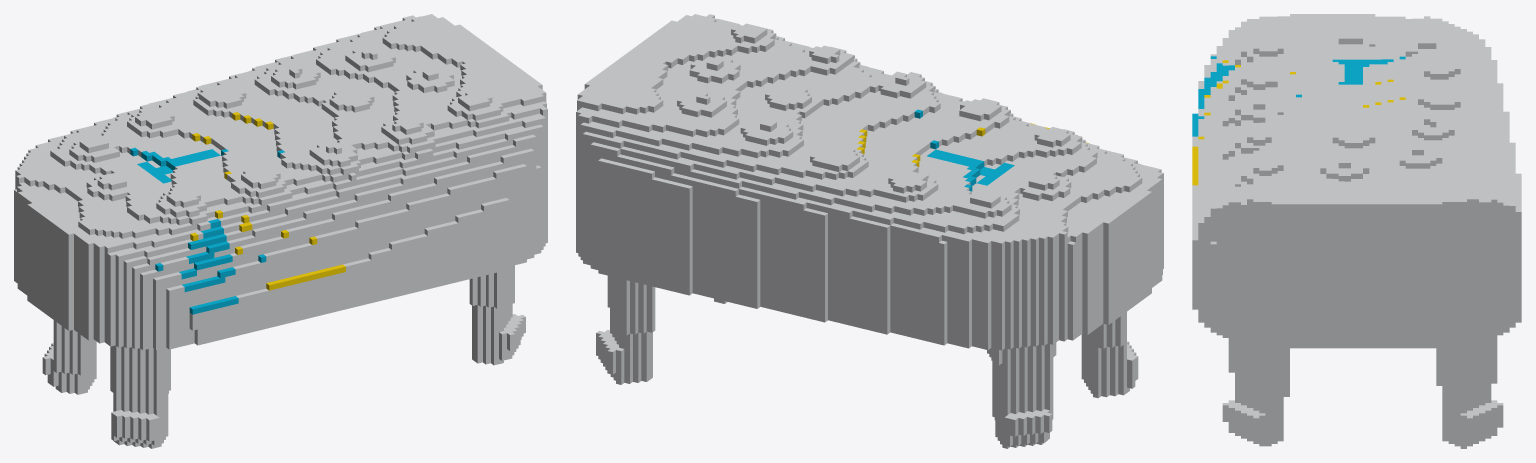
3 views of the same model, side by side, from view 1: azimuth 30°, elevation 25°; view 2: azimuth 150°, elevation 25°; view 3: azimuth 270°, elevation 25° (orthographic). The views are drawn at different scales.
Parts seen in each view (by area): view 1: =>[0:1:1:1167], =>[0:1:1:309], =>[0:1:1:628], =>[0:1:1:256], =>[0:1:1:1170], =>[0:1:1:1200], =>[0:1:1:647], =>[0:1:1:626], =>[0:1:1:436], =>[0:1:1:648], =>[0:1:1:633], =>[0:1:1:1171] (+36 smaller); view 2: =>[0:1:1:565], =>[0:1:1:1253], =>[0:1:1:1025], =>[0:1:1:1043], =>[0:1:1:654], =>[0:1:1:309], =>[0:1:1:256], =>[0:1:1:1155], =>[0:1:1:648], =>[0:1:1:1792], =>[0:1:1:1200], =>[0:1:1:436] (+27 smaller); view 3: =>[0:1:1:933], =>[0:1:1:563], =>[0:1:1:256], =>[0:1:1:562], =>[0:1:1:1569], =>[0:1:1:1570], =>[0:1:1:663], =>[0:1:1:664], =>[0:1:1:1200], =>[0:1:1:436], =>[0:1:1:564], =>[0:1:1:1800] (+54 smaller).
Part boxes in pixels (<box>): =>[0:1:1:1167]: <box>197,239,504,345</box>; =>[0:1:1:309]: <box>27,204,68,330</box>; =>[0:1:1:628]: <box>235,243,342,295</box>; =>[0:1:1:256]: <box>412,14,543,100</box>; =>[0:1:1:1170]: <box>238,233,504,303</box>; =>[0:1:1:1200]: <box>193,114,286,170</box>; =>[0:1:1:647]: <box>74,234,88,340</box>; =>[0:1:1:626]: <box>506,166,526,239</box>; =>[0:1:1:436]: <box>223,77,326,148</box>; =>[0:1:1:648]: <box>17,192,31,295</box>; =>[0:1:1:633]: <box>389,207,424,242</box>; =>[0:1:1:1171]: <box>346,228,504,271</box>; =>[0:1:1:565]: <box>598,166,689,295</box>; =>[0:1:1:1253]: <box>692,186,757,308</box>; =>[0:1:1:1025]: <box>760,200,824,322</box>; =>[0:1:1:1043]: <box>828,213,887,334</box>; =>[0:1:1:654]: <box>890,231,944,345</box>; =>[0:1:1:309]: <box>1108,192,1151,324</box>; =>[0:1:1:256]: <box>577,14,715,105</box>; =>[0:1:1:1155]: <box>947,236,968,348</box>; =>[0:1:1:648]: <box>1087,222,1103,334</box>; =>[0:1:1:1792]: <box>972,239,987,349</box>; =>[0:1:1:1200]: <box>868,108,959,170</box>; =>[0:1:1:436]: <box>781,94,896,170</box>; =>[0:1:1:933]: <box>1277,204,1442,348</box>; =>[0:1:1:563]: <box>1442,202,1466,345</box>; =>[0:1:1:256]: <box>1247,189,1478,199</box>; =>[0:1:1:562]: <box>1253,268,1277,345</box>; =>[0:1:1:1569]: <box>1228,202,1240,340</box>; =>[0:1:1:1570]: <box>1479,202,1491,340</box>; =>[0:1:1:663]: <box>1241,205,1253,342</box>; =>[0:1:1:664]: <box>1467,199,1478,342</box>; =>[0:1:1:1200]: <box>1271,87,1423,97</box>; =>[0:1:1:436]: <box>1283,110,1478,117</box>; =>[0:1:1:564]: <box>1253,202,1271,268</box>; =>[0:1:1:1800]: <box>1491,199,1497,337</box>.
Size of the model in its own units: 39.22 by 20.69 by 23.28.
